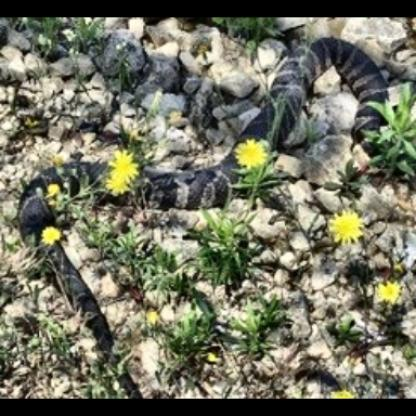Snake: (6, 26, 416, 390)
